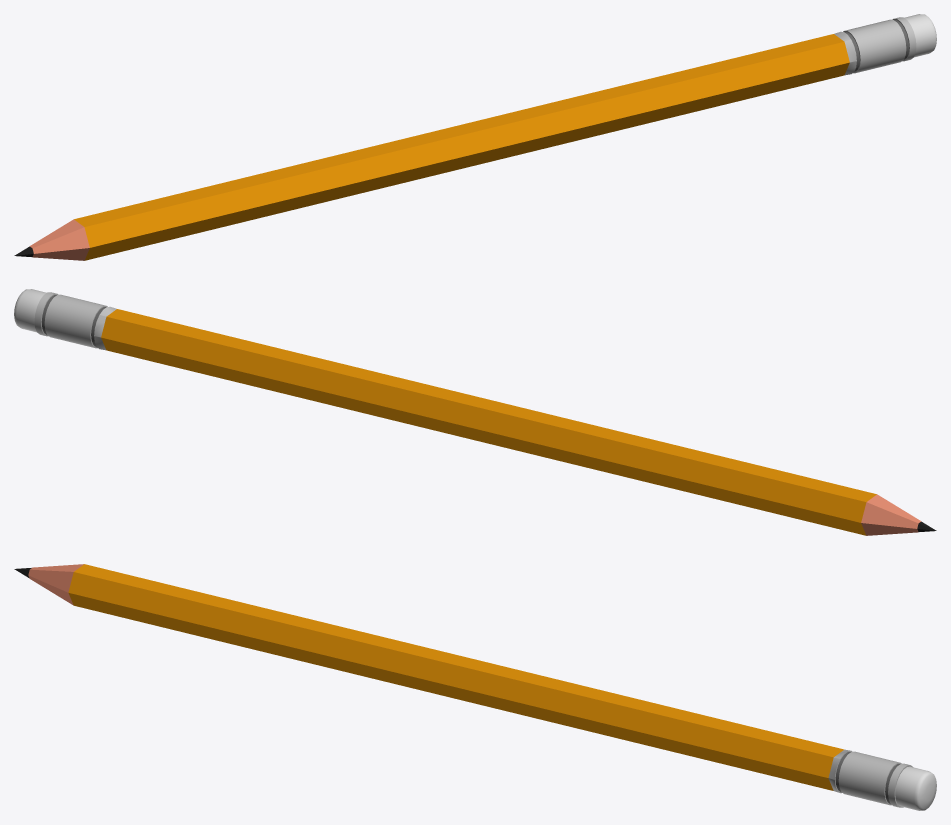
File: pencil.glb
3 renders of one model, top to bottom at view 1: azimuth 30°, elevation 25°; view 2: azimuth 150°, elevation 25°; view 3: azimuth 330°, elevation 25°, orthographic.
Visible parts, largest first — view 1: Cylinder, Cylinder.001; view 2: Cylinder, Cylinder.001; view 3: Cylinder, Cylinder.001.
Boxes of the visible parts, x1,y1,x2,y2 form: Cylinder: (14,34,849,260); Cylinder.001: (834,14,936,75); Cylinder: (101,309,936,535); Cylinder.001: (14,289,116,350); Cylinder: (14,564,843,790); Cylinder.001: (828,749,936,810).
Size of the model in its own units: 6 by 0.2456 by 0.2494.
